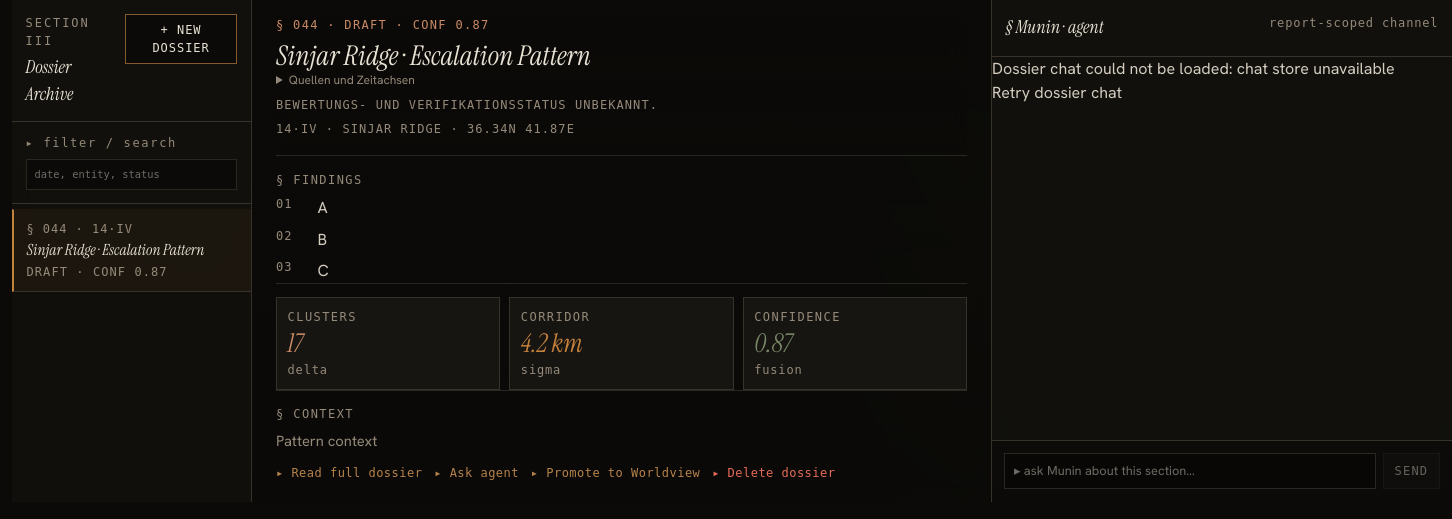
Test: shows a recoverable chat load failure instead of an empty dossier channel
Expected: the message "Dossier chat could not be loaded: chat store unavailable Retry dossier chat" is shown, left=992, top=57, right=1451, bottom=105
Click the button "Retry dossier chat": {"x": 1057, "y": 93} left=992, top=81, right=1122, bottom=105
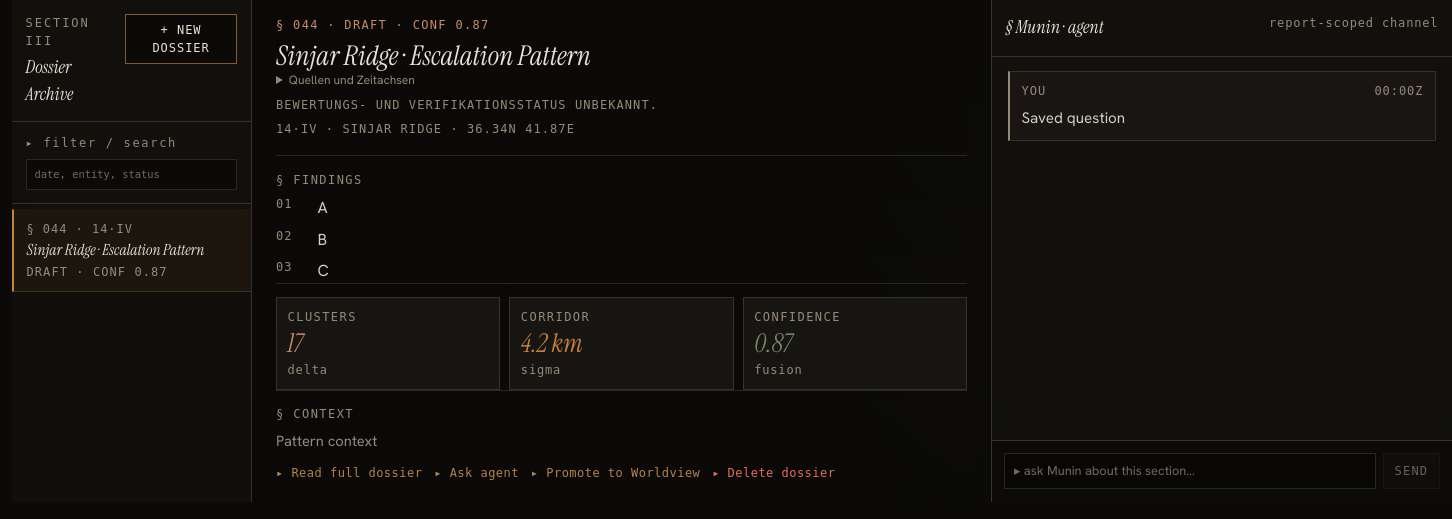
Expected: the text "Saved question" is shown, left=1022, top=108, right=1125, bottom=128
